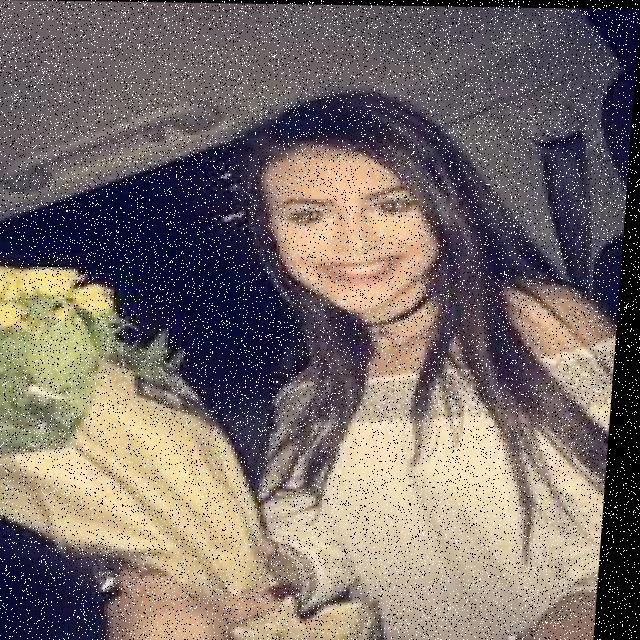noSeatbelt: (220, 247, 626, 640)
